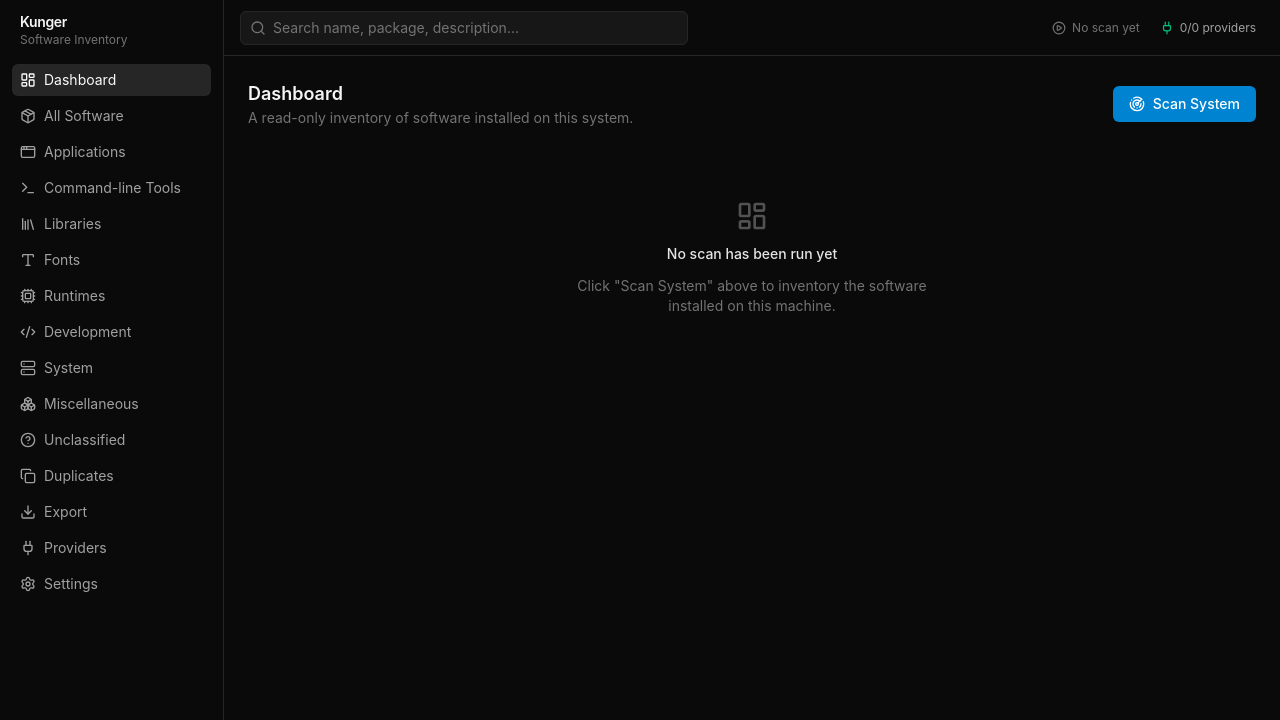
Test: App › navigates to the Providers page
Click the link "Providers" at (63, 548), box [20, 539, 107, 556]
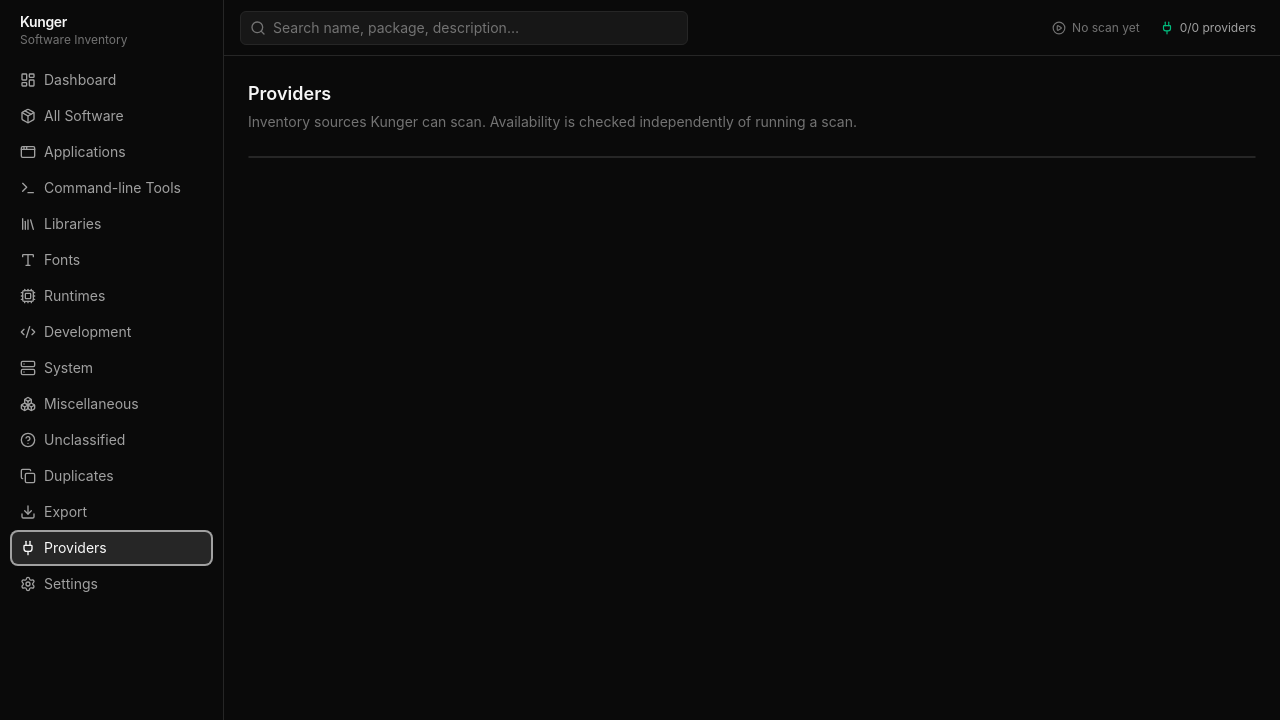
Check: the heading "Providers" is shown, box [248, 83, 331, 104]
